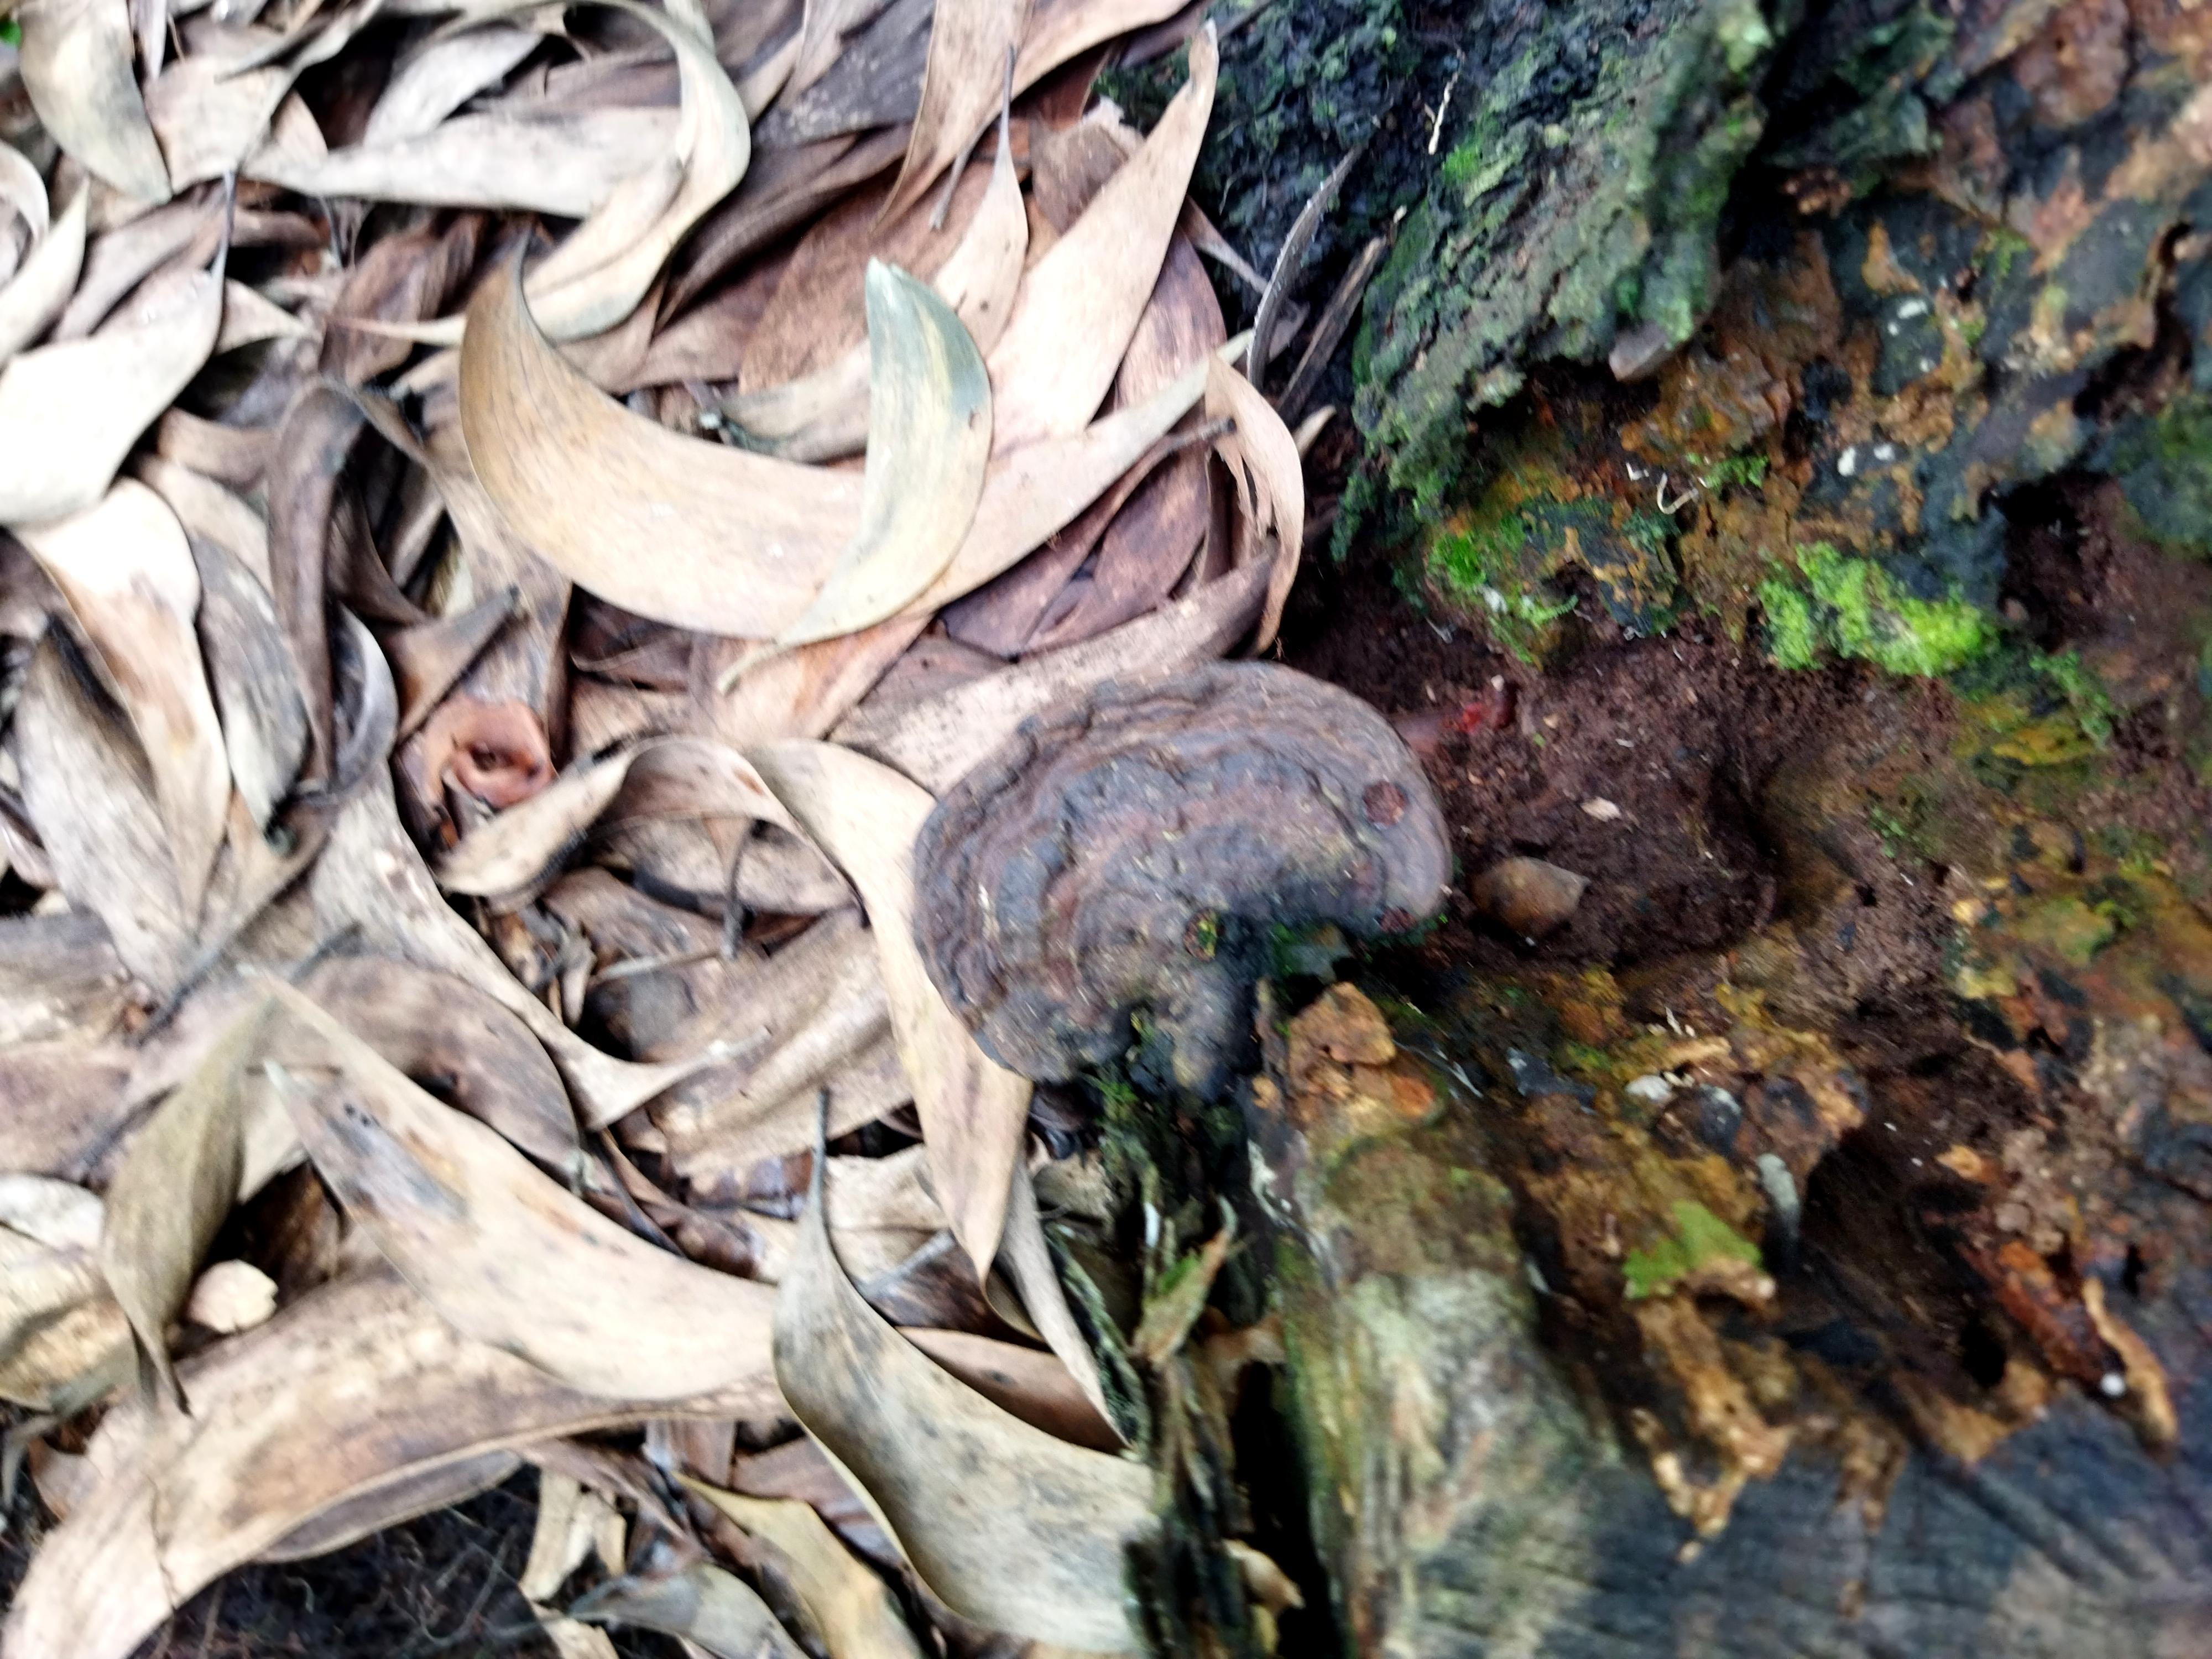Ganoderma - Fruit Body: (864, 659, 1454, 1100)
